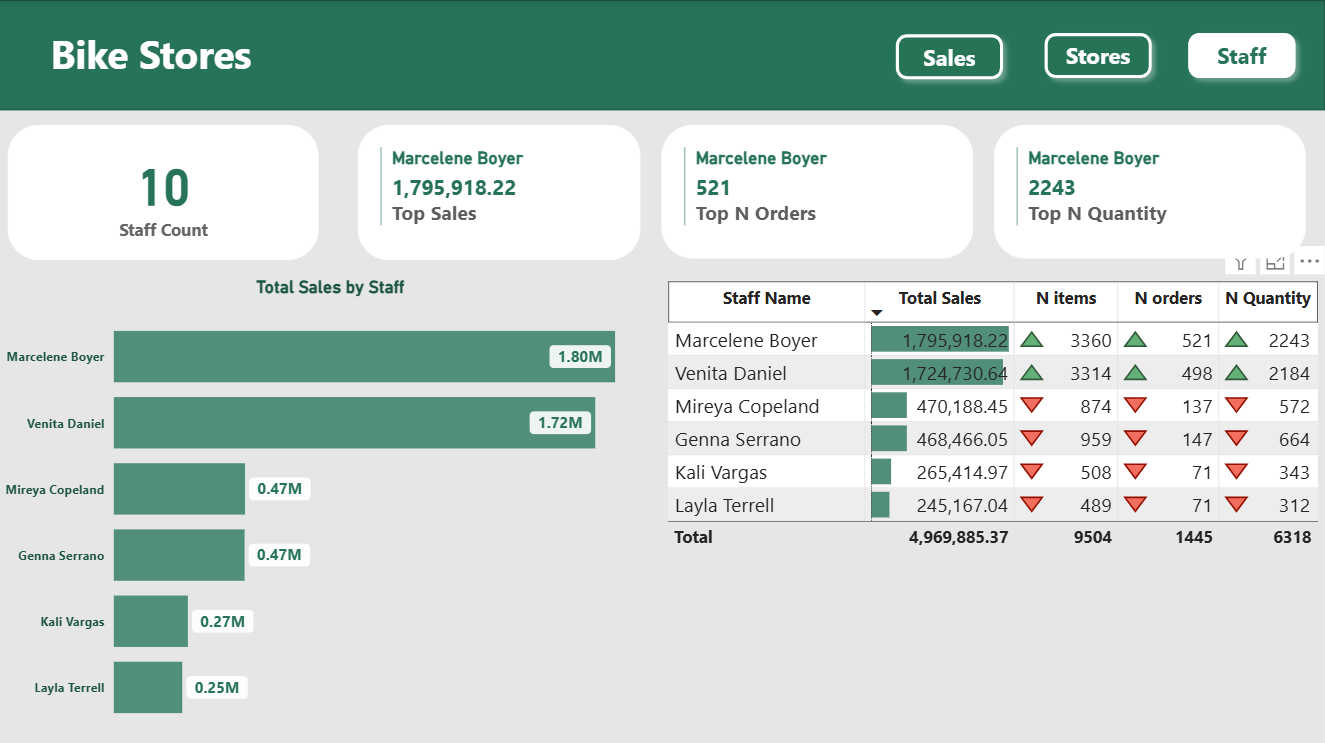

Layout of this report page (visuals, bound fields, positions):
{"tool":"powerbi","page":{"name":"Staff","canvas":[1280,720],"ordinal":2},"visuals":[{"type":"group","id":"g1","title":"Appbar","box":[0,0,1280,106.7],"z":0},{"type":"shape","box":[0,0,1280,106.7],"z":0,"group":"g1"},{"type":"textbox","box":[44.3,21.4,252.9,62.9],"z":1000,"group":"g1"},{"type":"barChart","title":"Total Sales by Staff","fields":{"Y":["Sum(sales order_items.list_price)"],"Category":["sales store_staff.staff_fullname"]},"box":[0,266.6,639.5,453.7],"z":1000},{"type":"actionButton","box":[1138.6,22.9,121.4,61.4],"z":1500,"group":"g1"},{"type":"actionButton","box":[1000,22.9,121.4,61.4],"z":2000,"group":"g1"},{"type":"tableEx","fields":{"Values":["sales store_staff.staff_fullname","Sum(sales order_items.list_price)","Sum(sales order_items.item_id)","sales order_items.order_id","Sum(sales order_items.quantity)"]},"box":[639.5,266.6,640.8,453.7],"z":2000},{"type":"actionButton","box":[857.1,24.3,121.4,61.4],"z":2500,"group":"g1"},{"type":"card","fields":{"Values":["Count(sales store_staff.staff_id)"]},"box":[9,121,300,130],"z":3000},{"type":"multiRowCard","fields":{"Values":["sales store_staff.staff_fullname","Sum(sales order_items.list_price)"]},"box":[346.2,120.6,272.7,130.3],"z":4000},{"type":"multiRowCard","fields":{"Values":["sales store_staff.staff_fullname","CountNonNull(sales orders.order_id)"]},"box":[639.4,120.6,300.4,129.1],"z":5000},{"type":"multiRowCard","fields":{"Values":["sales store_staff.staff_fullname","Sum(sales order_items.quantity)"]},"box":[960.3,120.6,300.4,129.1],"z":6000}]}

Visuals, with their boxes in screenshot pixels (x1, y1, x2, y2), scaled from the page's 1280x720 canvas onto the 1325x743 screenshot:
"Appbar" group: region(0, 0, 1324, 110)
shape: region(0, 0, 1324, 110)
textbox: region(46, 22, 308, 87)
"Total Sales by Staff" barChart: region(0, 275, 662, 742)
actionButton: region(1179, 24, 1304, 87)
actionButton: region(1035, 24, 1161, 87)
tableEx - sales store_staff.staff_fullname x Sum(sales order_items.list_price): region(662, 275, 1324, 742)
actionButton: region(887, 25, 1013, 88)
card - Count(sales store_staff.staff_id): region(9, 125, 320, 259)
multiRowCard - sales store_staff.staff_fullname x Sum(sales order_items.list_price): region(358, 124, 641, 259)
multiRowCard - sales store_staff.staff_fullname x CountNonNull(sales orders.order_id): region(662, 124, 973, 258)
multiRowCard - sales store_staff.staff_fullname x Sum(sales order_items.quantity): region(994, 124, 1305, 258)
